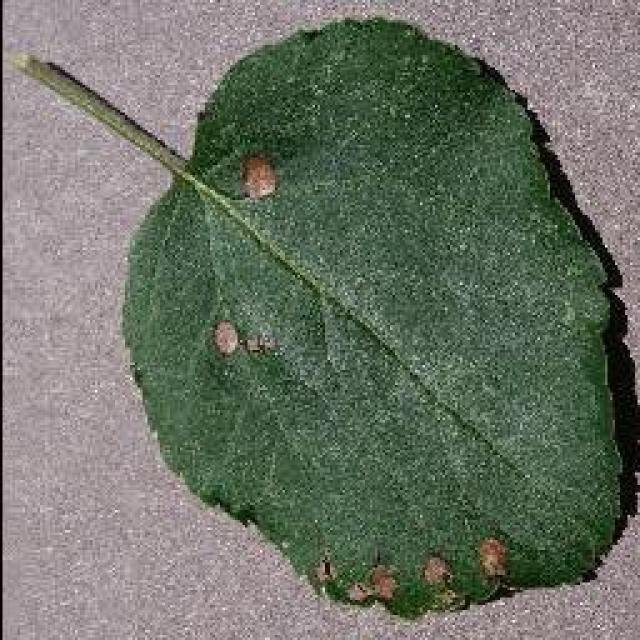Black_rot: (12, 12, 632, 620)
